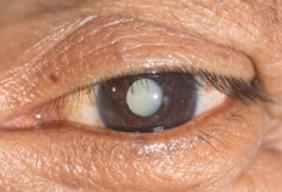eye: (100, 72, 195, 130)
